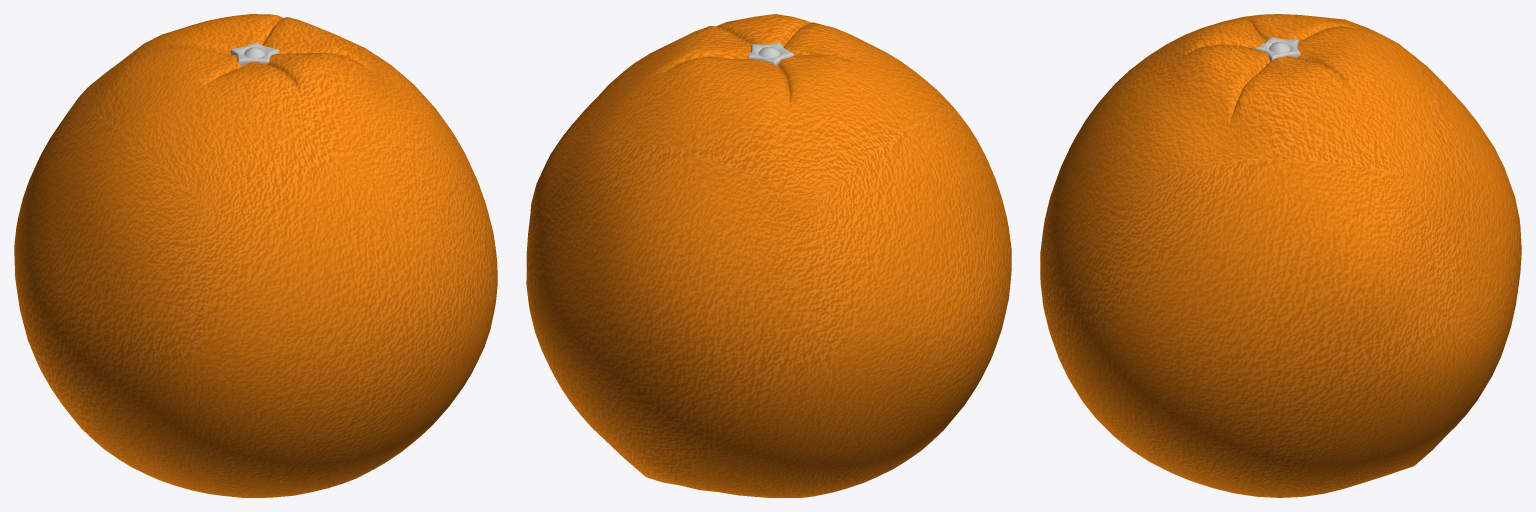
The model's file is Naranja.FBX.
3 renders of one model, left to right at view 1: azimuth 30°, elevation 25°; view 2: azimuth 150°, elevation 25°; view 3: azimuth 270°, elevation 25°, orthographic.
Visible parts, largest first — view 1: Naranja; view 2: Naranja; view 3: Naranja.
Boxes of the visible parts, x1=… form: Naranja: x1=14, y1=14, x2=497, y2=497; Naranja: x1=526, y1=14, x2=1011, y2=497; Naranja: x1=1040, y1=14, x2=1521, y2=497.
Bounding box in the file's own units: 16.83 × 16.55 × 16.77.
